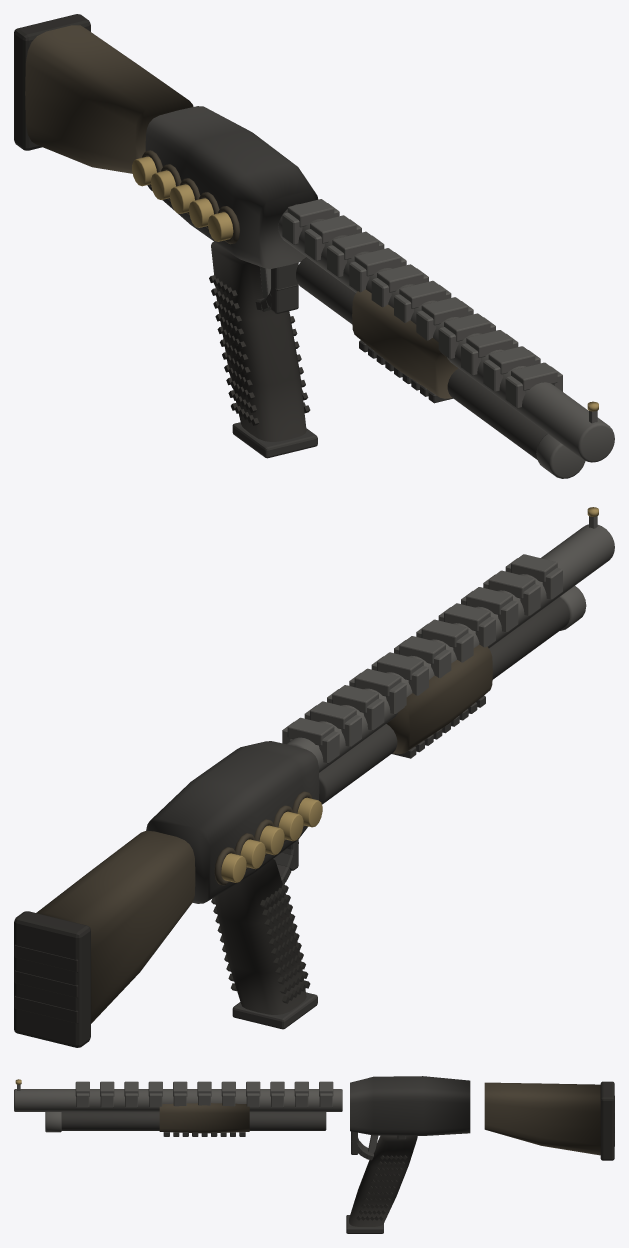
File: weapon_mossberg_590a1_v1.glb
3 renders of one model, top to bottom at view 1: azimuth 30°, elevation 25°; view 2: azimuth 150°, elevation 25°; view 3: azimuth 270°, elevation 25°, orthographic. The views are drawn at different scales.
Visible parts, largest first — view 1: mossberg_590a1; view 2: mossberg_590a1; view 3: mossberg_590a1.
Boxes of the visible parts, x1,y1,x2,y2 form: mossberg_590a1: [14, 14, 614, 478]; mossberg_590a1: [14, 507, 614, 1047]; mossberg_590a1: [14, 1076, 614, 1233].
Size of the model in its own units: 0.046 by 0.1369 by 0.5082.
